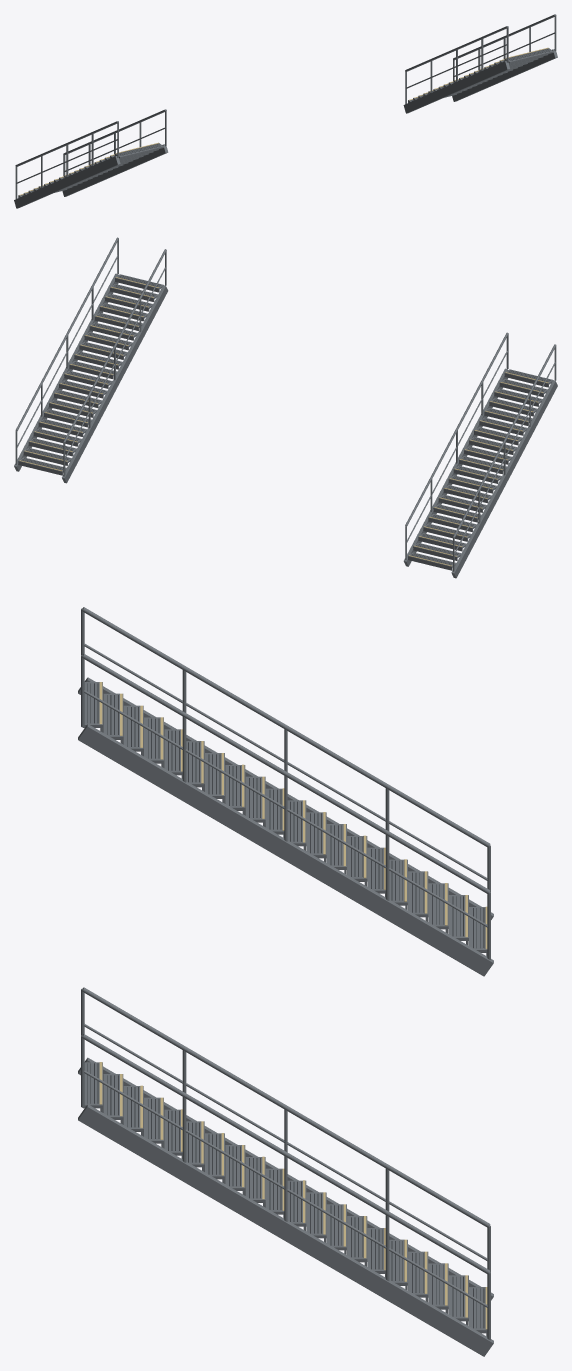
Rendered from BC_MezzanineStairs.fbx.
3 renders of one model, top to bottom at view 1: azimuth 30°, elevation 25°; view 2: azimuth 150°, elevation 25°; view 3: azimuth 270°, elevation 25°, orthographic. The views are drawn at different scales.
Parts seen in each view (by area): view 1: BC_MezzanineStairs; view 2: BC_MezzanineStairs; view 3: BC_MezzanineStairs.
Boxes of the visible parts, bbox=[...] form: BC_MezzanineStairs: bbox=[14, 14, 557, 208]; BC_MezzanineStairs: bbox=[14, 237, 557, 578]; BC_MezzanineStairs: bbox=[78, 607, 493, 1356].
Bounding box in the file's own units: 1401 × 489 × 573.
